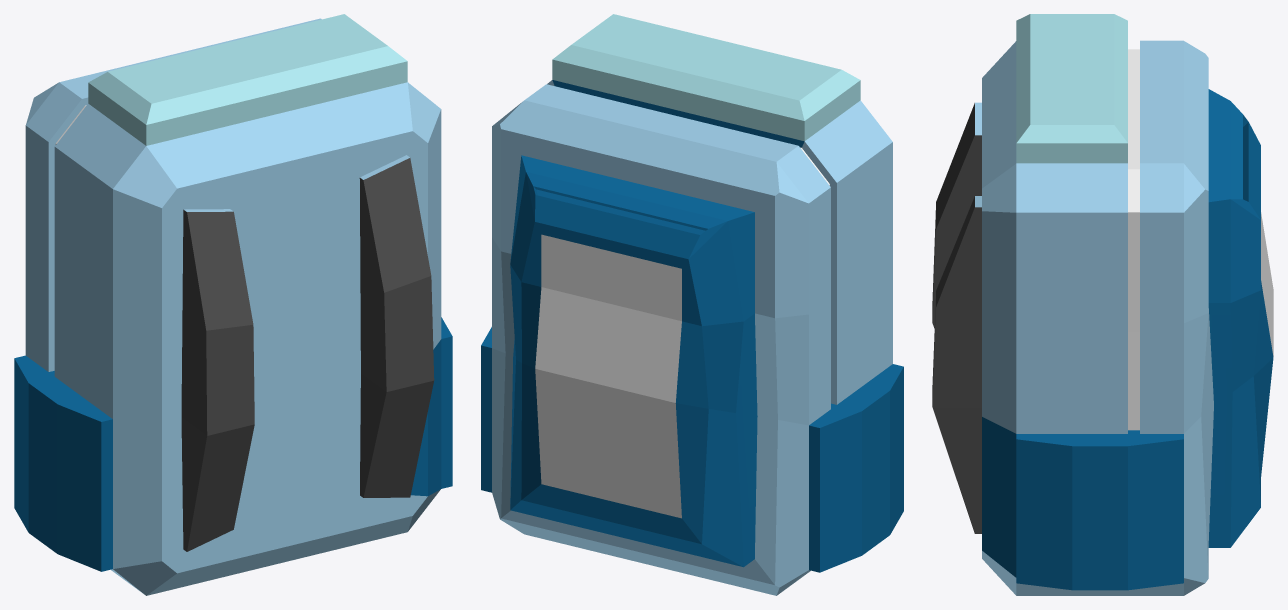
Rendered from Backpack.fbx.
3 renders of one model, left to right at view 1: azimuth 30°, elevation 25°; view 2: azimuth 150°, elevation 25°; view 3: azimuth 270°, elevation 25°, orthographic. The views are drawn at different scales.
Visible parts, largest first — view 1: Backpack; view 2: Backpack; view 3: Backpack.
Boxes of the visible parts, left/top/right/bottom form: Backpack: left=14, top=14, right=452, bottom=595; Backpack: left=481, top=14, right=903, bottom=595; Backpack: left=932, top=14, right=1273, bottom=595.
Bounding box in the file's own units: 232 × 282 × 187.
